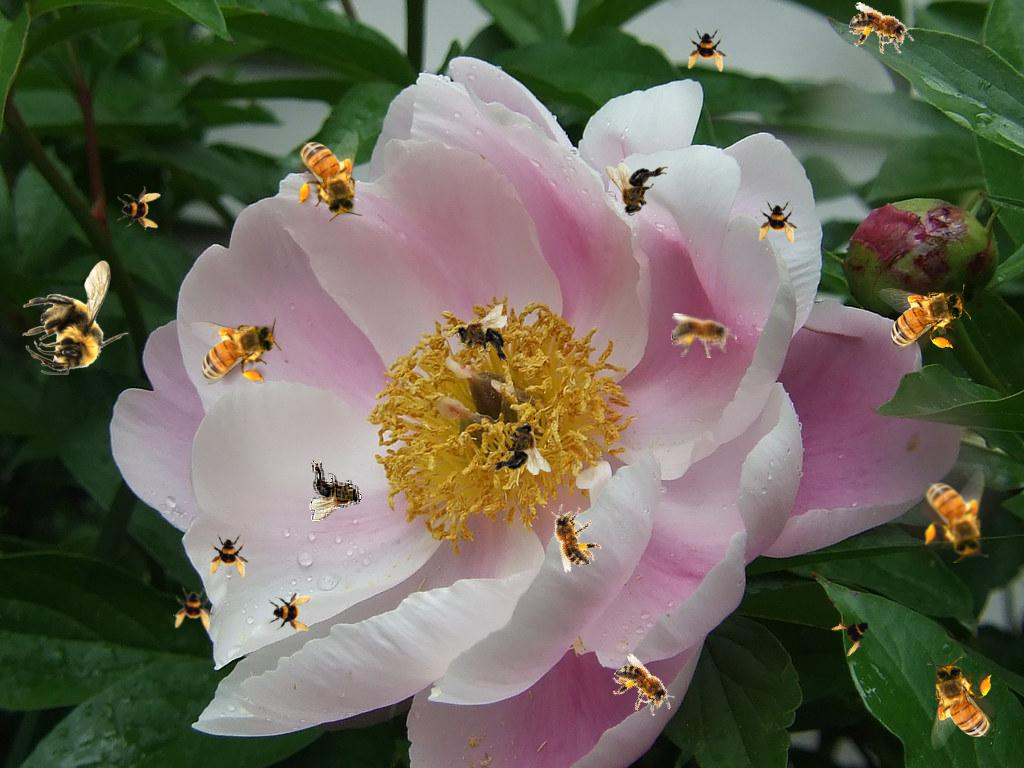Bee: (22, 260, 129, 375), (878, 284, 971, 352), (921, 470, 989, 563), (189, 317, 282, 385), (927, 657, 995, 750), (295, 129, 363, 222), (604, 651, 684, 726), (538, 496, 608, 575), (844, 1, 920, 60), (452, 303, 513, 371), (825, 603, 887, 665), (309, 460, 362, 522), (606, 163, 668, 216), (489, 422, 551, 475), (671, 313, 737, 358), (268, 589, 312, 633), (208, 534, 252, 578), (686, 28, 730, 72), (173, 587, 217, 631), (117, 186, 161, 230), (757, 200, 801, 244)
